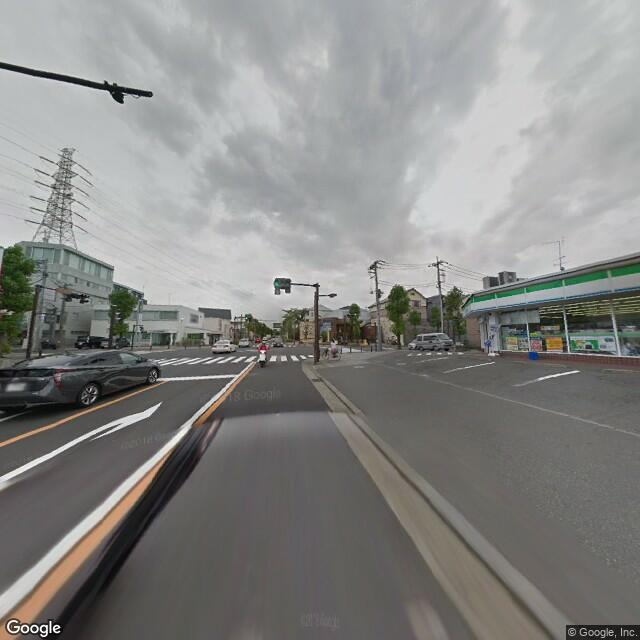family_mart: (461, 261, 638, 319)
